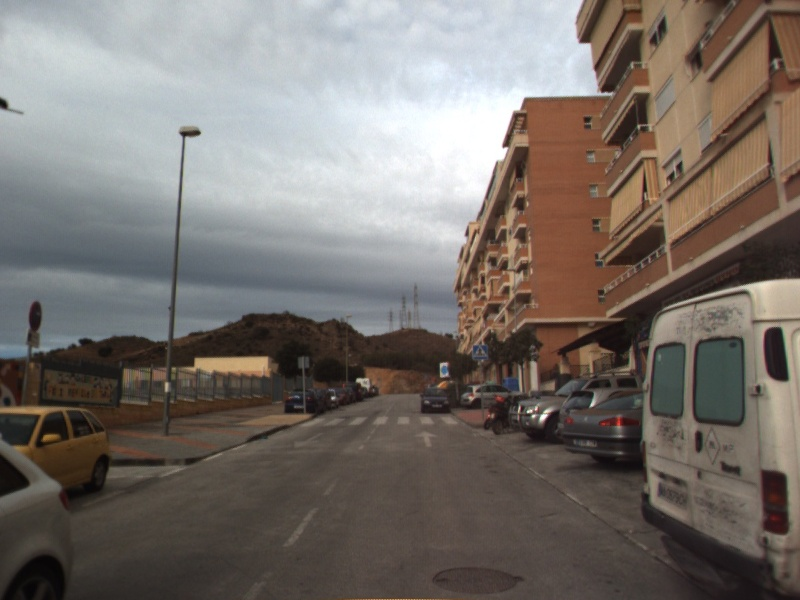STRAIGHT: (412, 428, 440, 449)
